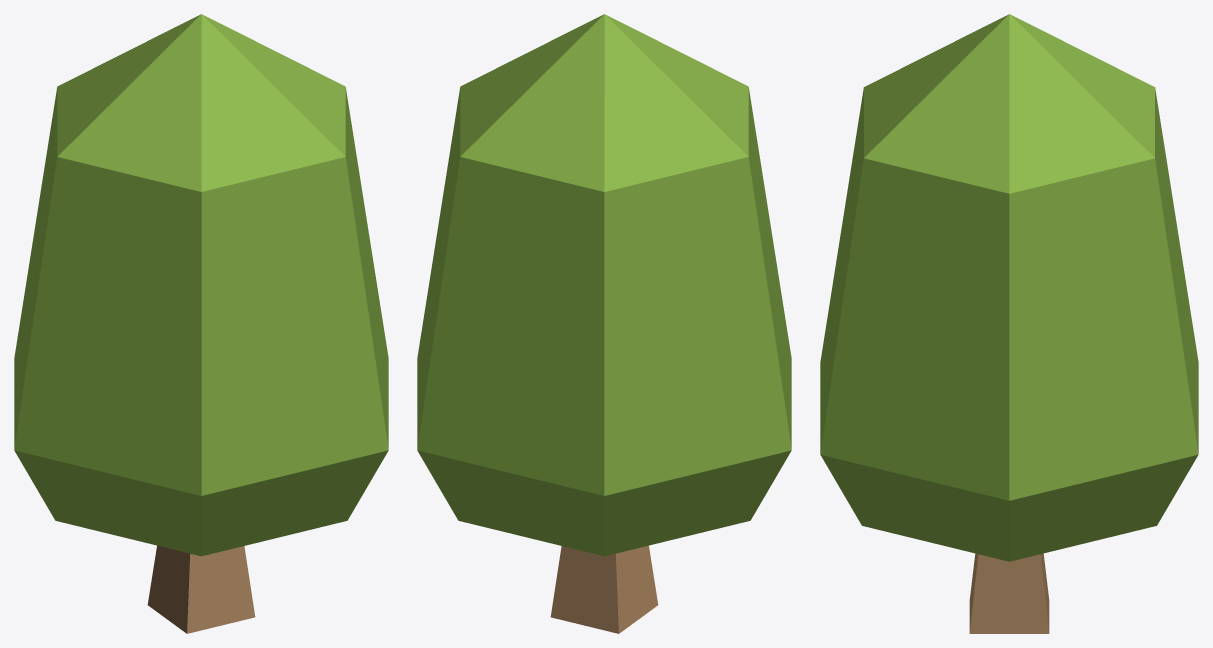
Rendered from roadTile_020.obj.
3 renders of one model, left to right at view 1: azimuth 30°, elevation 25°; view 2: azimuth 150°, elevation 25°; view 3: azimuth 270°, elevation 25°, orthographic.
Visible parts, largest first — view 1: Mesh1_Group1_Model.244; view 2: Mesh1_Group1_Model.244; view 3: Mesh1_Group1_Model.244.
Part boxes in pixels (x1=…): Mesh1_Group1_Model.244: x1=14, y1=14, x2=388, y2=633; Mesh1_Group1_Model.244: x1=417, y1=14, x2=791, y2=633; Mesh1_Group1_Model.244: x1=820, y1=14, x2=1198, y2=633.
Bounding box in the file's own units: 1.72 × 2.62 × 1.49.
